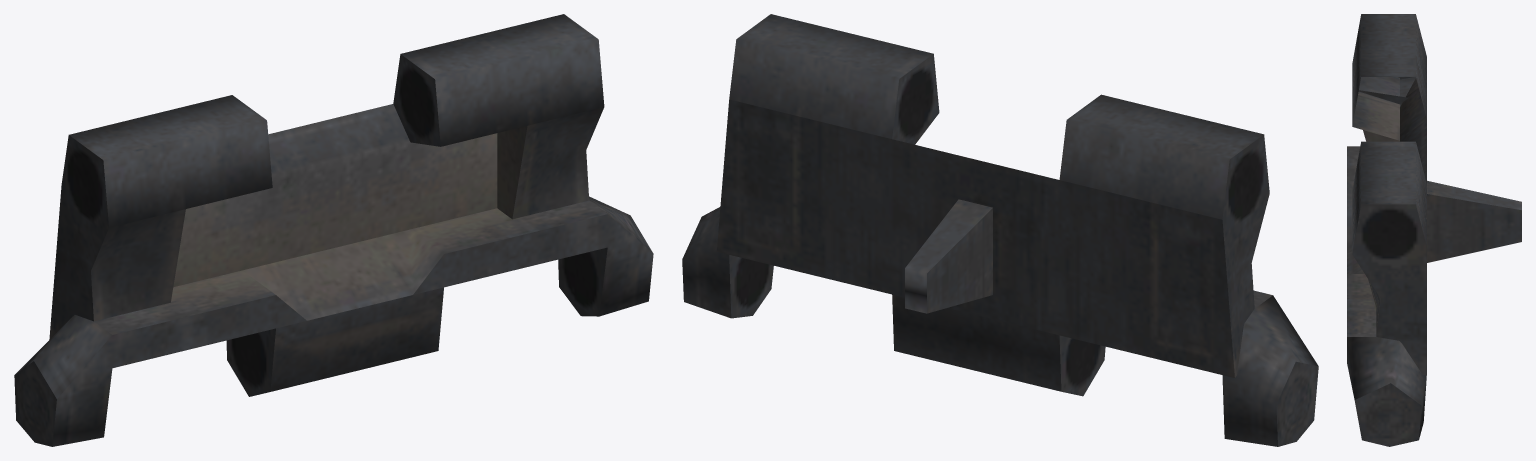
The picture shows the model from 3 angles, left to right: view 1: azimuth 30°, elevation 25°; view 2: azimuth 150°, elevation 25°; view 3: azimuth 270°, elevation 25°; orthographic projection. The views are drawn at different scales.
Visible parts, largest first — view 1: set_0_group_0; view 2: set_0_group_0; view 3: set_0_group_0.
Part boxes in pixels (x1,y1,x2,y2): set_0_group_0: (14, 14, 653, 446); set_0_group_0: (682, 14, 1318, 446); set_0_group_0: (1347, 14, 1521, 446).
Bounding box in the file's own units: 0.305 × 0.1416 × 0.0983.
Materials: 1 (1 with a texture image).
